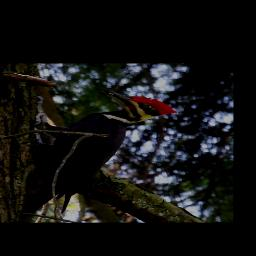Woodpecker: (16, 89, 178, 222)
